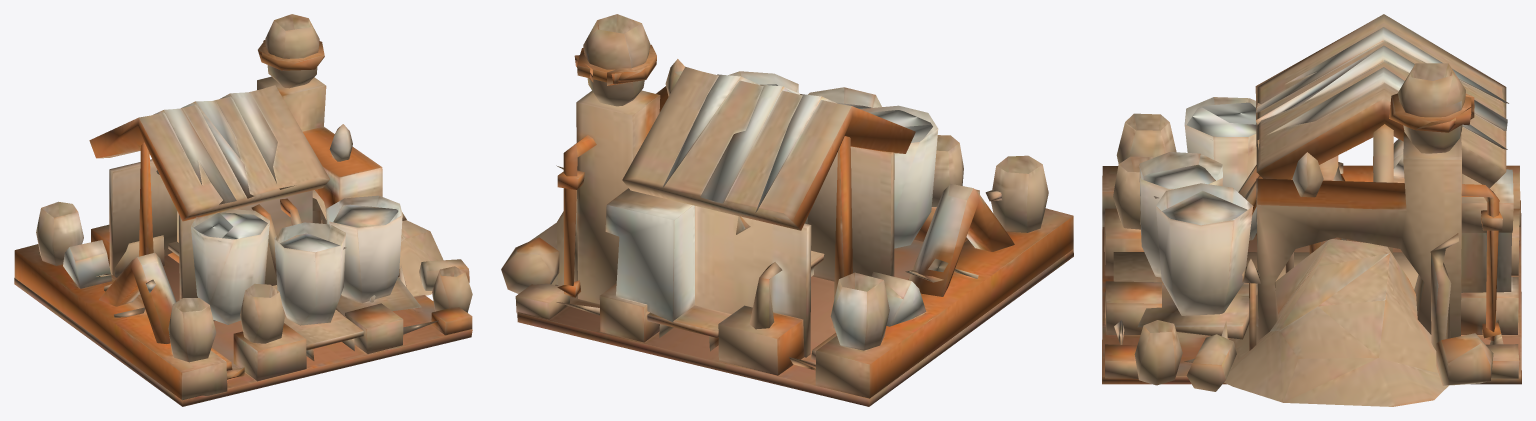
The model's file is salvage-clay.glb.
3 renders of one model, left to right at view 1: azimuth 30°, elevation 25°; view 2: azimuth 150°, elevation 25°; view 3: azimuth 270°, elevation 25°, orthographic. The views are drawn at different scales.
Visible parts, largest first — view 1: salvage-clay; view 2: salvage-clay; view 3: salvage-clay.
Boxes of the visible parts, <box> form: salvage-clay: <box>14,14,472,406</box>; salvage-clay: <box>501,14,1073,406</box>; salvage-clay: <box>1102,14,1521,406</box>.
Bounding box in the file's own units: 0.85 × 0.5457 × 0.7264.
1 material, 1 textured.
